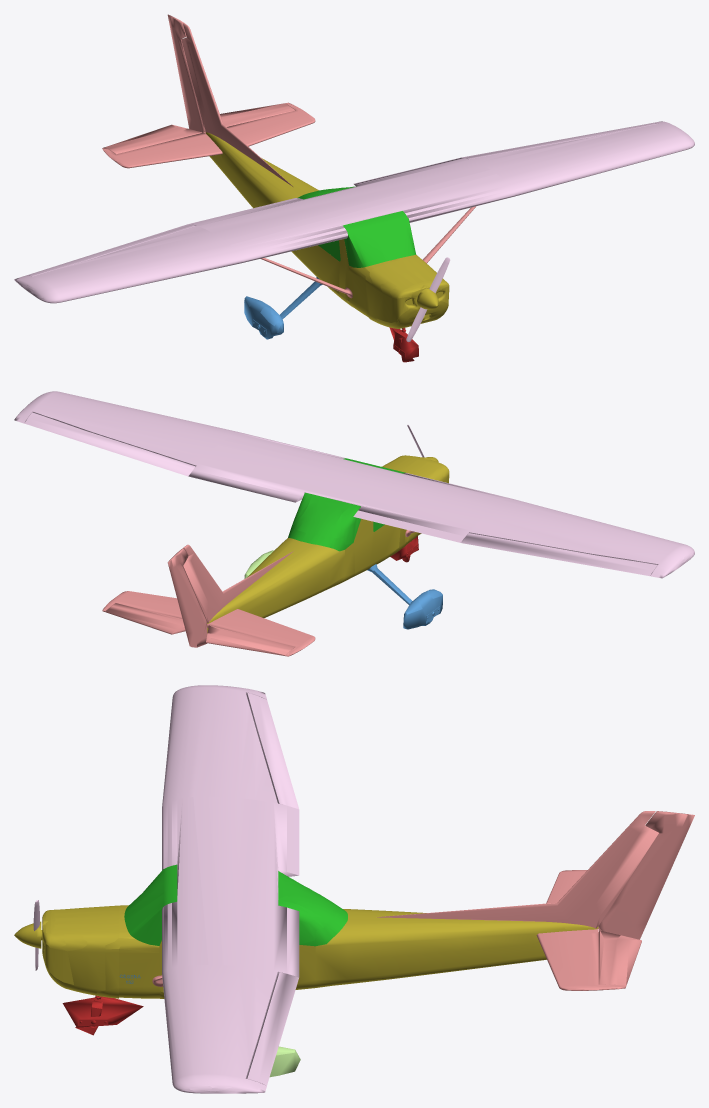
The model's file is cessna152.glb.
3 renders of one model, top to bottom at view 1: azimuth 30°, elevation 25°; view 2: azimuth 150°, elevation 25°; view 3: azimuth 270°, elevation 25°, orthographic. The views are drawn at different scales.
Visible parts, largest first — view 1: Group_014, Cessna_152_001, Cessna_152_20_empennage_001, Group_009, Group_005, Group_010, Group_012; view 2: Group_014, Cessna_152_20_empennage_001, Cessna_152_001, Group_009, Group_005; view 3: Group_014, Cessna_152_001, Cessna_152_20_empennage_001, Group_009, Group_010, Group_002.
Part boxes in pixels (x1,y1,x2,y2): Group_014: (14, 121, 694, 303); Cessna_152_001: (206, 132, 449, 328); Cessna_152_20_empennage_001: (102, 14, 315, 186); Group_009: (297, 186, 415, 267); Group_005: (244, 277, 322, 339); Group_010: (389, 327, 418, 362); Group_012: (406, 257, 450, 341); Group_014: (14, 391, 694, 578); Cessna_152_20_empennage_001: (102, 544, 315, 656); Cessna_152_001: (207, 455, 449, 633); Group_009: (288, 458, 405, 551); Group_005: (367, 564, 442, 629); Group_014: (162, 685, 299, 1093); Cessna_152_001: (14, 905, 598, 998); Cessna_152_20_empennage_001: (377, 811, 694, 990); Group_009: (124, 864, 347, 946); Group_010: (62, 995, 143, 1035); Group_002: (269, 1046, 300, 1077).
Bounding box in the file's own units: 10.29 × 2.67 × 7.35.
